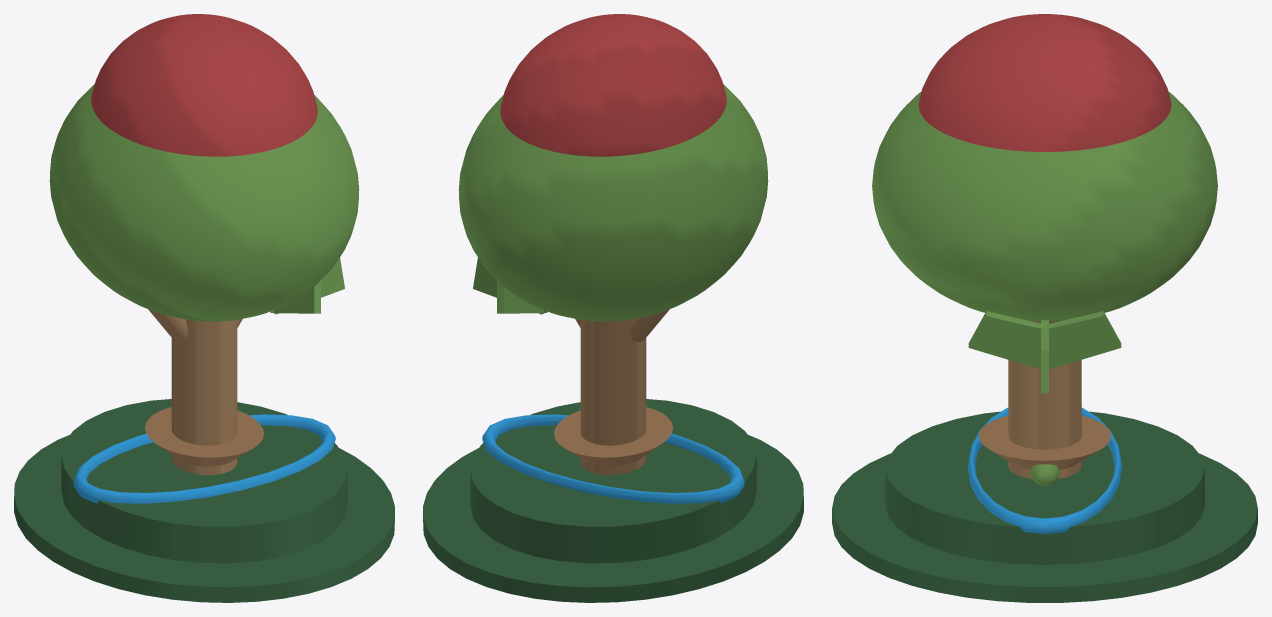
The model's file is 0097_植物图鉴_葡萄.glb.
The picture shows the model from 3 angles, left to right: view 1: azimuth 30°, elevation 25°; view 2: azimuth 150°, elevation 25°; view 3: azimuth 270°, elevation 25°; orthographic projection.
Parts seen in each view (by area): view 1: card_0097; view 2: card_0097; view 3: card_0097.
Boxes of the visible parts, x1=… form: card_0097: x1=14, y1=14, x2=394, y2=602; card_0097: x1=423, y1=14, x2=803, y2=602; card_0097: x1=832, y1=14, x2=1257, y2=602.
Size of the model in its own units: 0.6799 by 1 by 0.7738.
